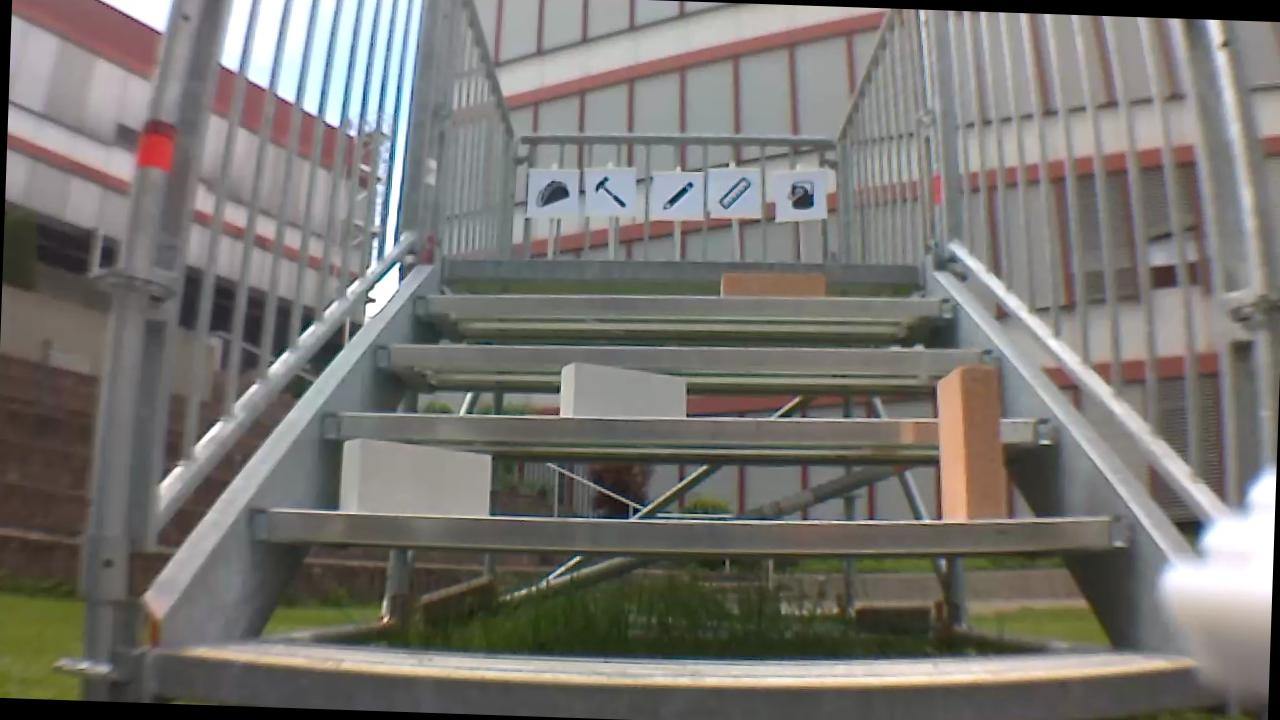brick: (933, 365, 1010, 522), (341, 439, 491, 518), (560, 363, 685, 419), (720, 269, 826, 298)
bucket: (783, 176, 821, 215)
edge: (159, 630, 1236, 720), (250, 486, 1124, 569), (324, 392, 1056, 456), (374, 327, 1006, 380), (417, 279, 958, 327), (445, 250, 928, 287)
hammer: (589, 173, 628, 210)
pencil: (660, 177, 696, 212)
ruler: (711, 173, 754, 211)
steps: (143, 234, 1255, 720)
taco: (532, 175, 573, 214)
